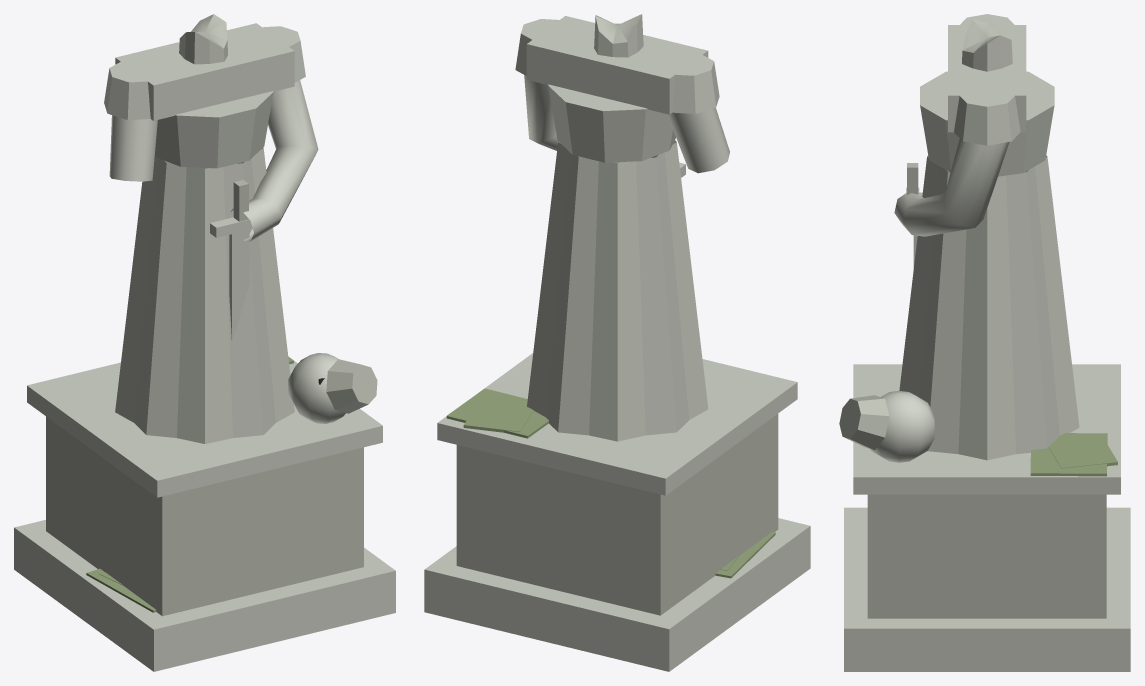
Rendered from ruin_statue.glb.
The picture shows the model from 3 angles, left to right: view 1: azimuth 30°, elevation 25°; view 2: azimuth 150°, elevation 25°; view 3: azimuth 270°, elevation 25°; orthographic projection. The views are drawn at different scales.
Parts seen in each view (by area): view 1: ruin_statue; view 2: ruin_statue; view 3: ruin_statue.
Boxes of the visible parts, x1,y1,x2,y2 form: ruin_statue: [14, 14, 395, 671]; ruin_statue: [424, 14, 810, 671]; ruin_statue: [839, 14, 1130, 671].
Size of the model in its own units: 3 by 6.74 by 3.05.
